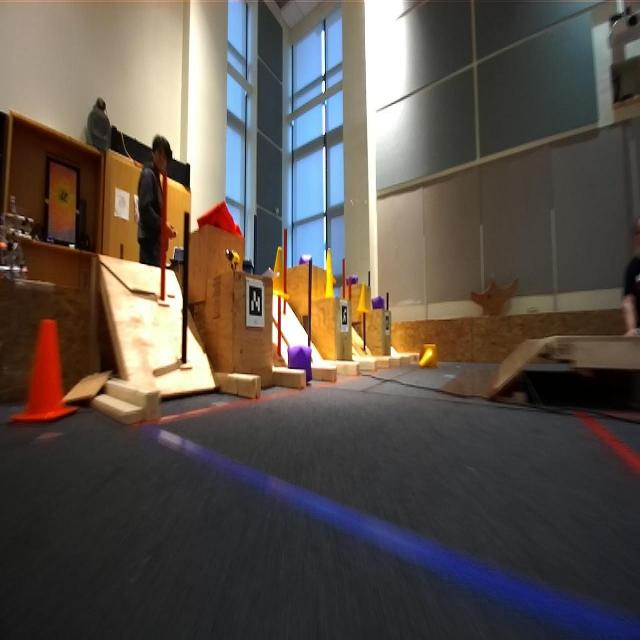frc_cone: (272, 246, 290, 299), (322, 256, 338, 302), (417, 345, 439, 372), (356, 281, 370, 318), (323, 247, 335, 285)
frc_cube: (287, 343, 311, 374), (370, 293, 384, 312), (346, 274, 360, 284)
